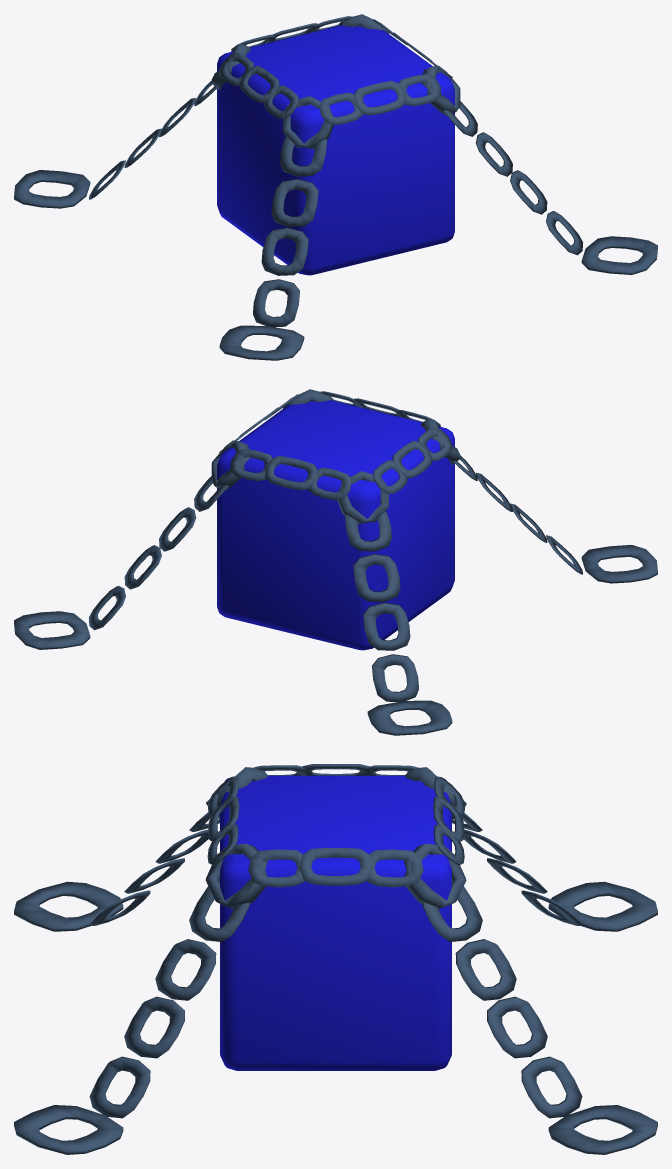
File: StrappedKube_03.fbx
The picture shows the model from 3 angles, top to bottom: view 1: azimuth 30°, elevation 25°; view 2: azimuth 150°, elevation 25°; view 3: azimuth 270°, elevation 25°; orthographic projection. The views are drawn at different scales.
Parts seen in each view (by area): view 1: Kube, Strapping, StrappingBroken.002, StrappingBroken.001, StrappingBroken.004, StrappingBroken.003; view 2: Kube, Strapping, StrappingBroken.004, StrappingBroken.003, StrappingBroken.002, StrappingBroken.001; view 3: Kube, Strapping, StrappingBroken.001, StrappingBroken.003, StrappingBroken.002, StrappingBroken.004.
Part boxes in pixels (box(x1,y1,x2,y2)): Kube: box(217, 25, 454, 275); Strapping: box(14, 17, 657, 360); StrappingBroken.002: box(254, 81, 405, 327); StrappingBroken.001: box(393, 32, 583, 255); StrappingBroken.004: box(89, 34, 279, 199); StrappingBroken.003: box(272, 14, 406, 44); Kube: box(217, 400, 454, 650); Strapping: box(14, 392, 657, 735); StrappingBroken.004: box(308, 440, 432, 701); StrappingBroken.003: box(89, 427, 317, 630); StrappingBroken.002: box(354, 398, 582, 574); StrappingBroken.001: box(243, 389, 356, 432); Kube: box(220, 775, 451, 1070); Strapping: box(14, 766, 657, 1154); StrappingBroken.001: box(89, 824, 372, 1117); StrappingBroken.003: box(367, 796, 581, 1118); StrappingBroken.002: box(91, 765, 305, 922); StrappingBroken.004: box(299, 764, 581, 923).
Bounding box in the file's own units: 549 × 212 × 555.
